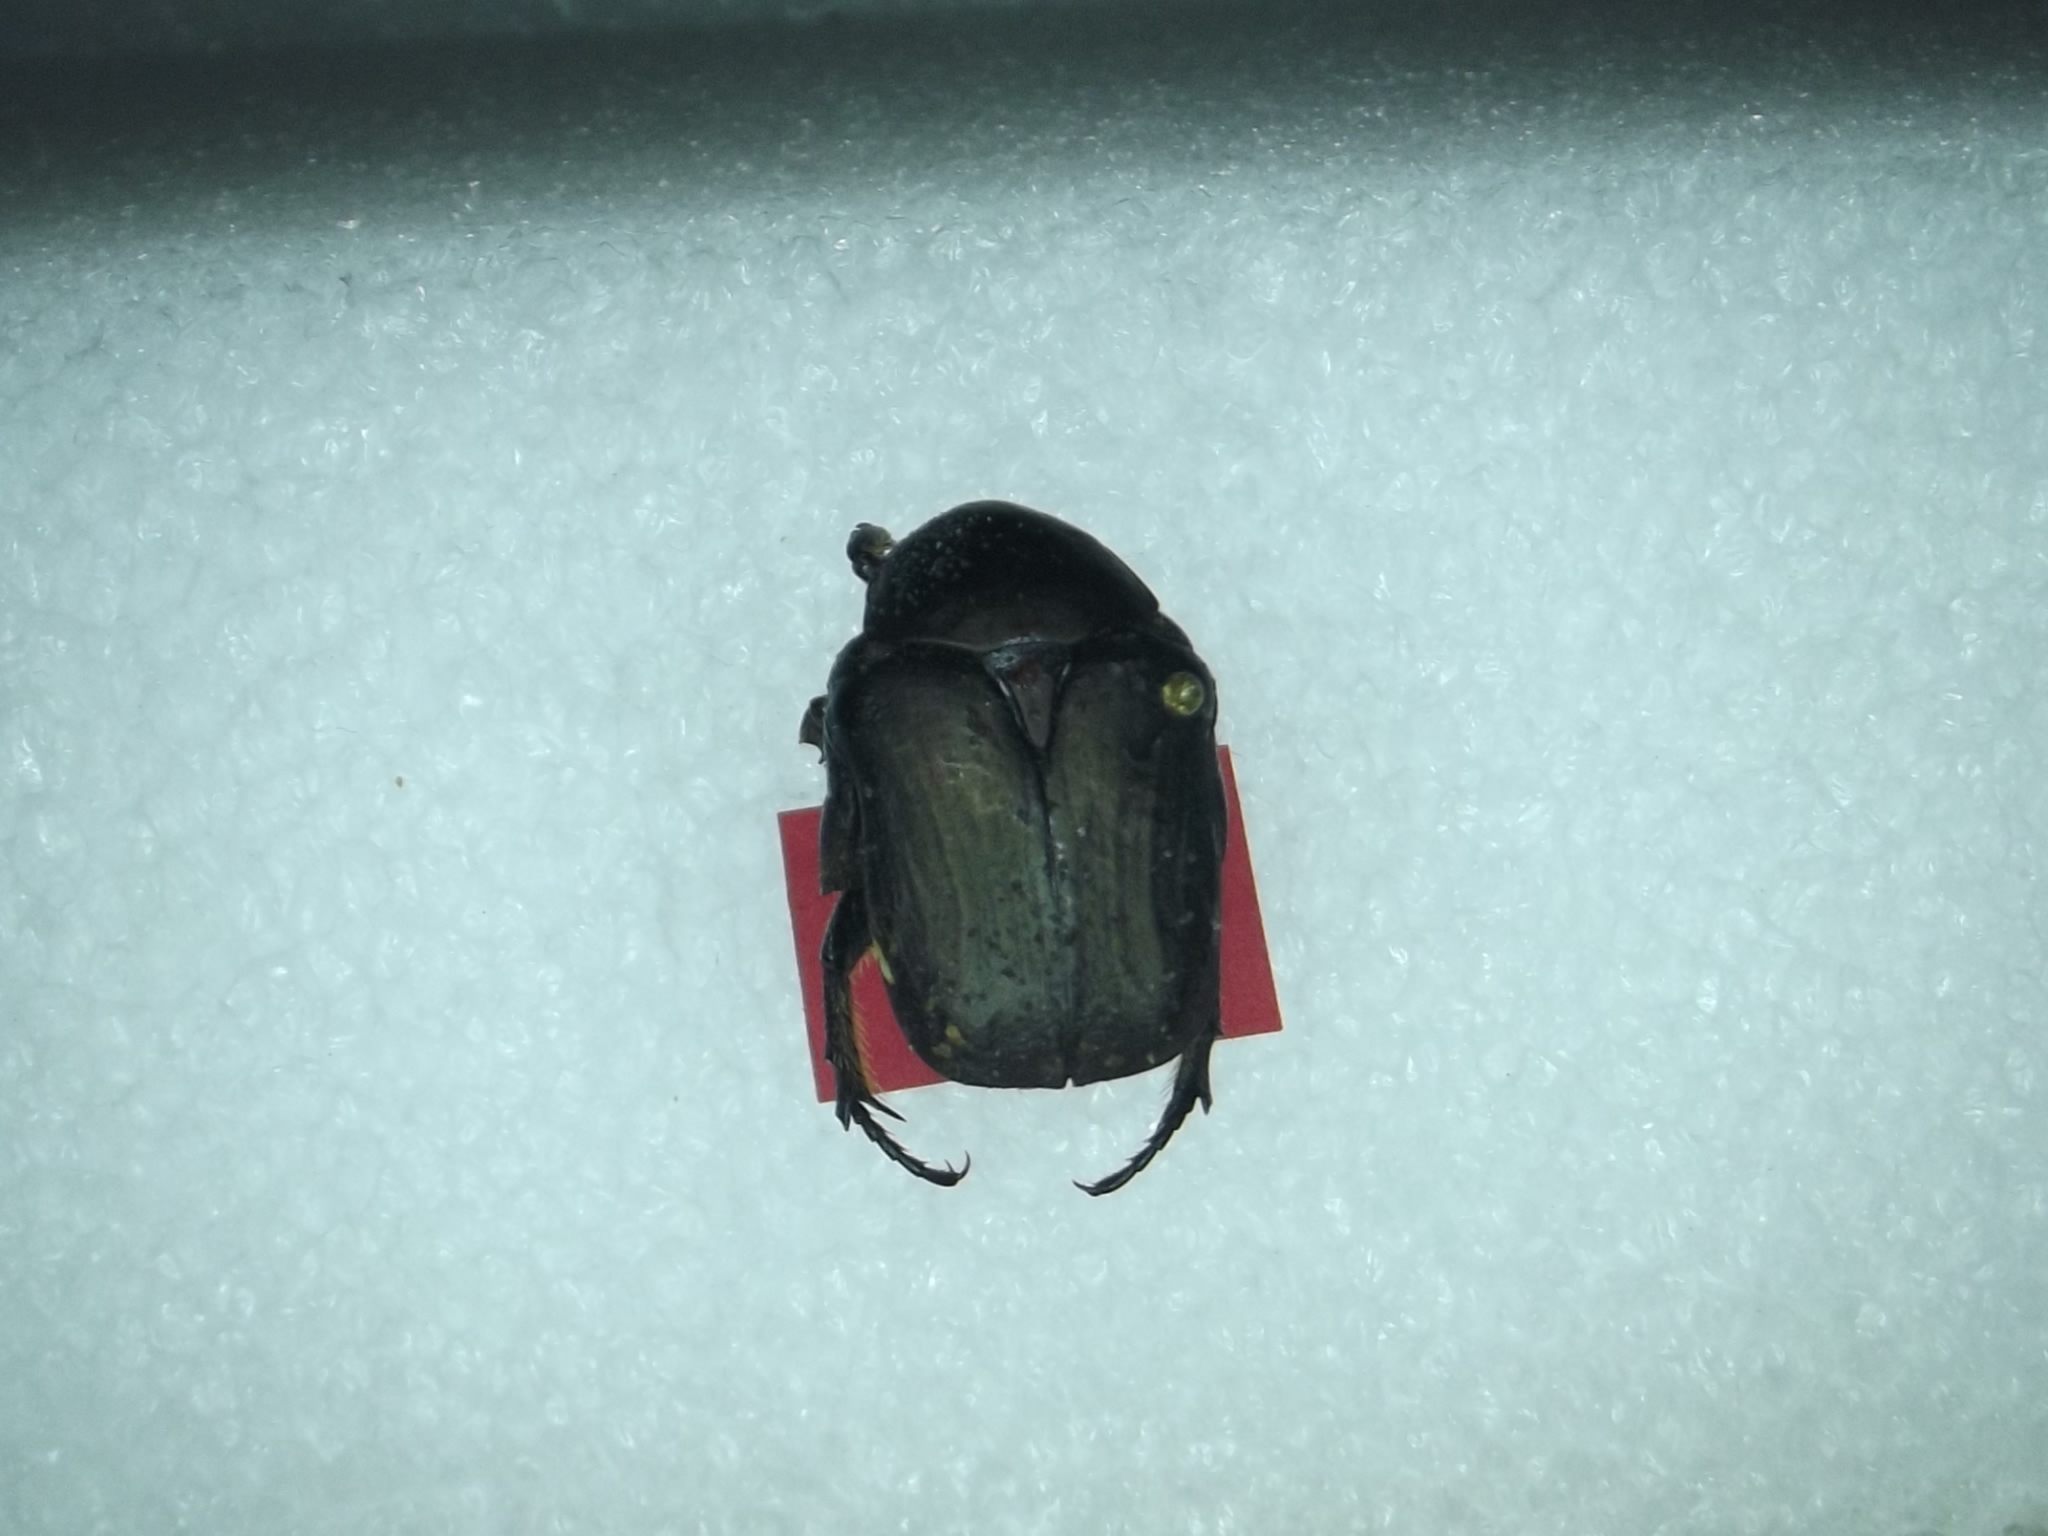Protaetia_oblonga: (798, 494, 1237, 1208)
